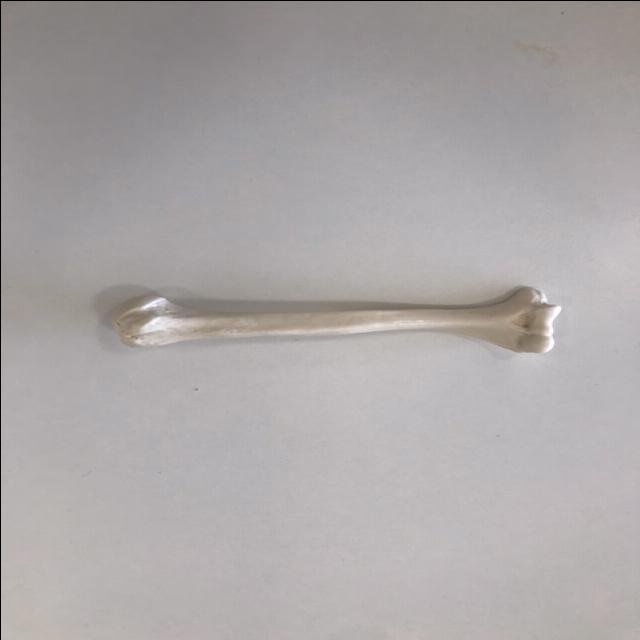bone: (101, 286, 564, 362)
